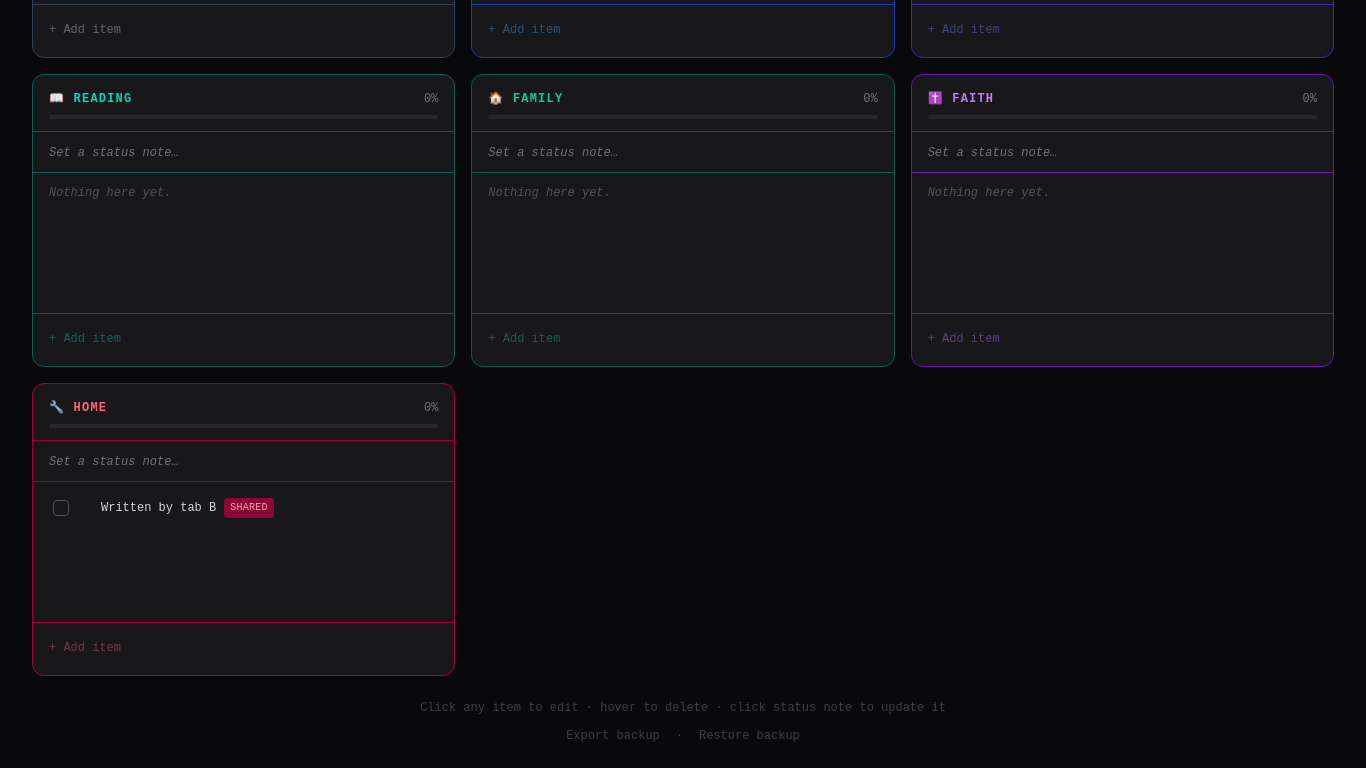
Test: multiple tabs (M1) › does not lose the other tab's work on the next edit
The width and height of the screenshot is (1366, 768).
(page scrolled)
Check: the text "Written by tab B" is shown, box [101,501,216,515]
Click the button "+ Add item" below "Home": point(85, 648) [49,640,121,656]
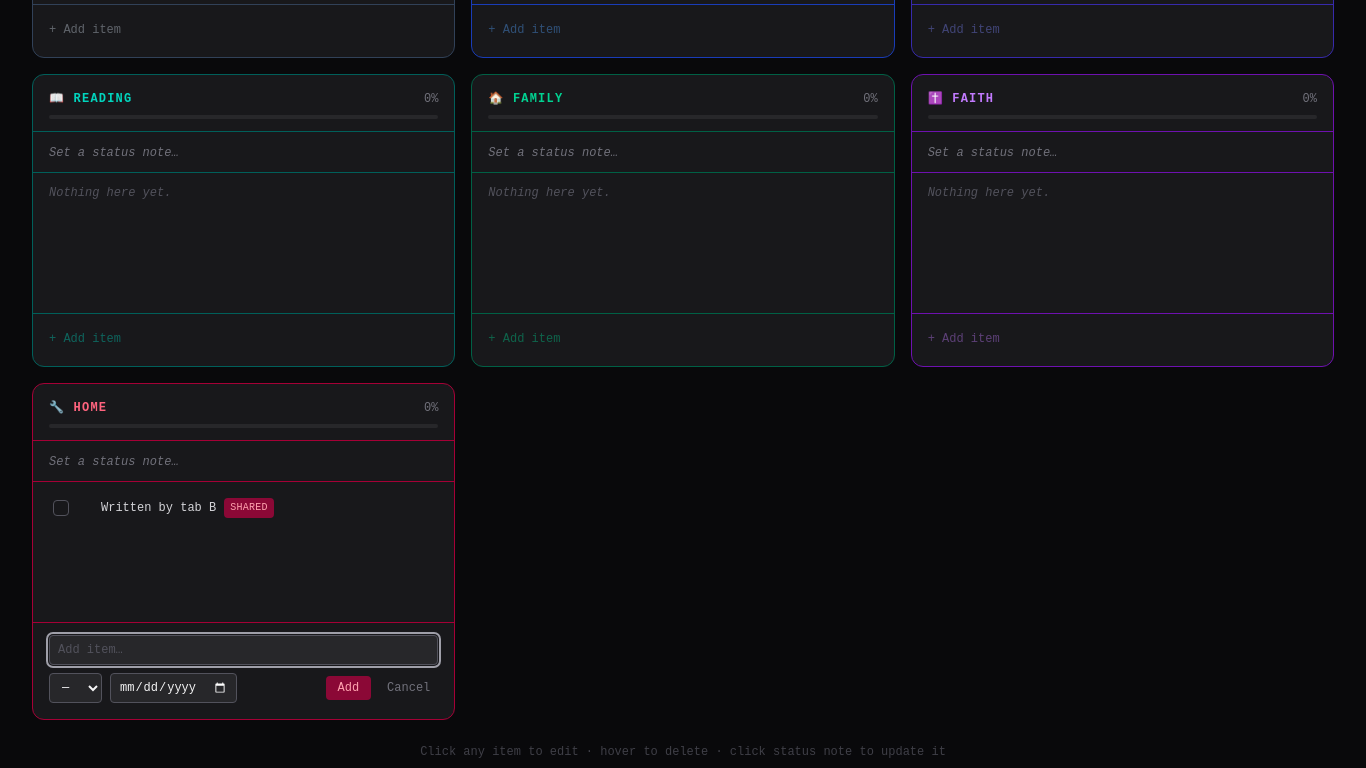
In the field named "new home task": point(244, 650) [49,635,438,665], type "Added after sync"
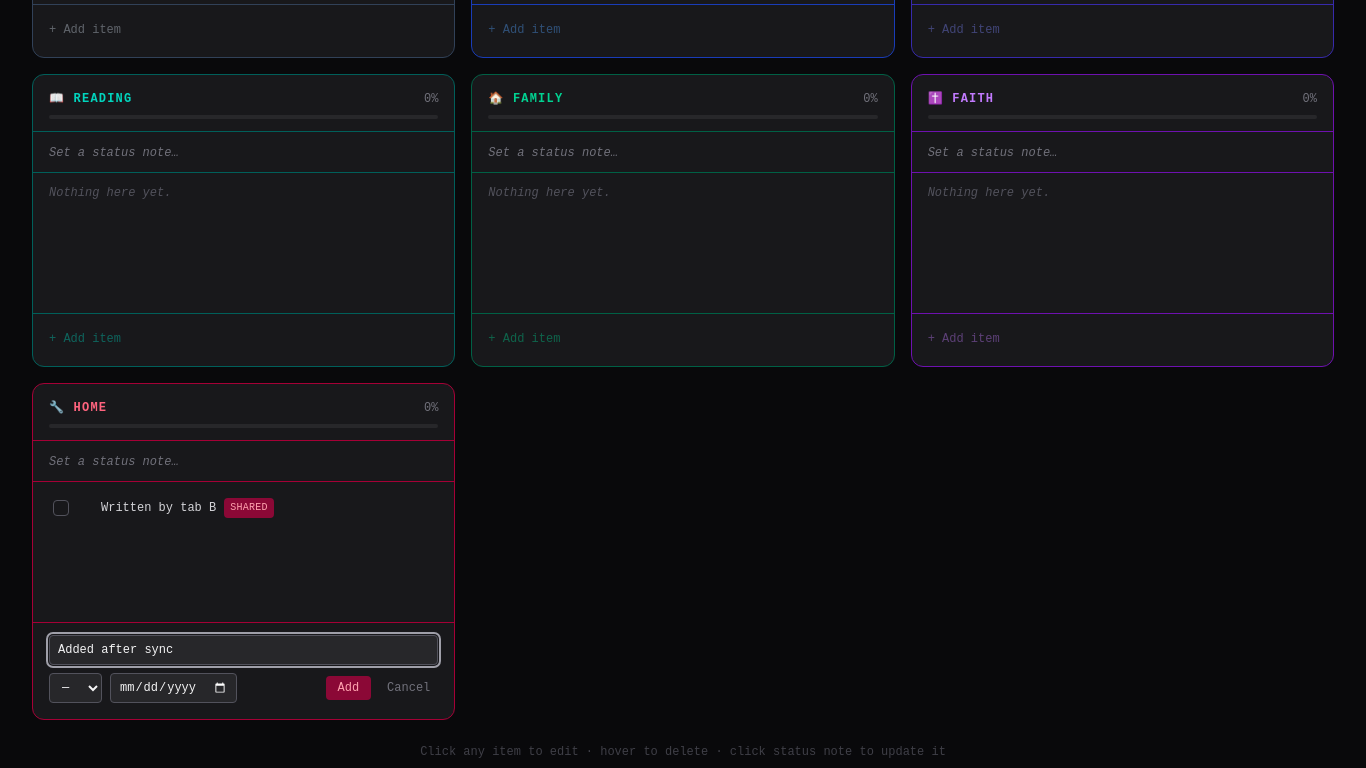
Click the button "Add": point(348, 688) [326,676,371,700]
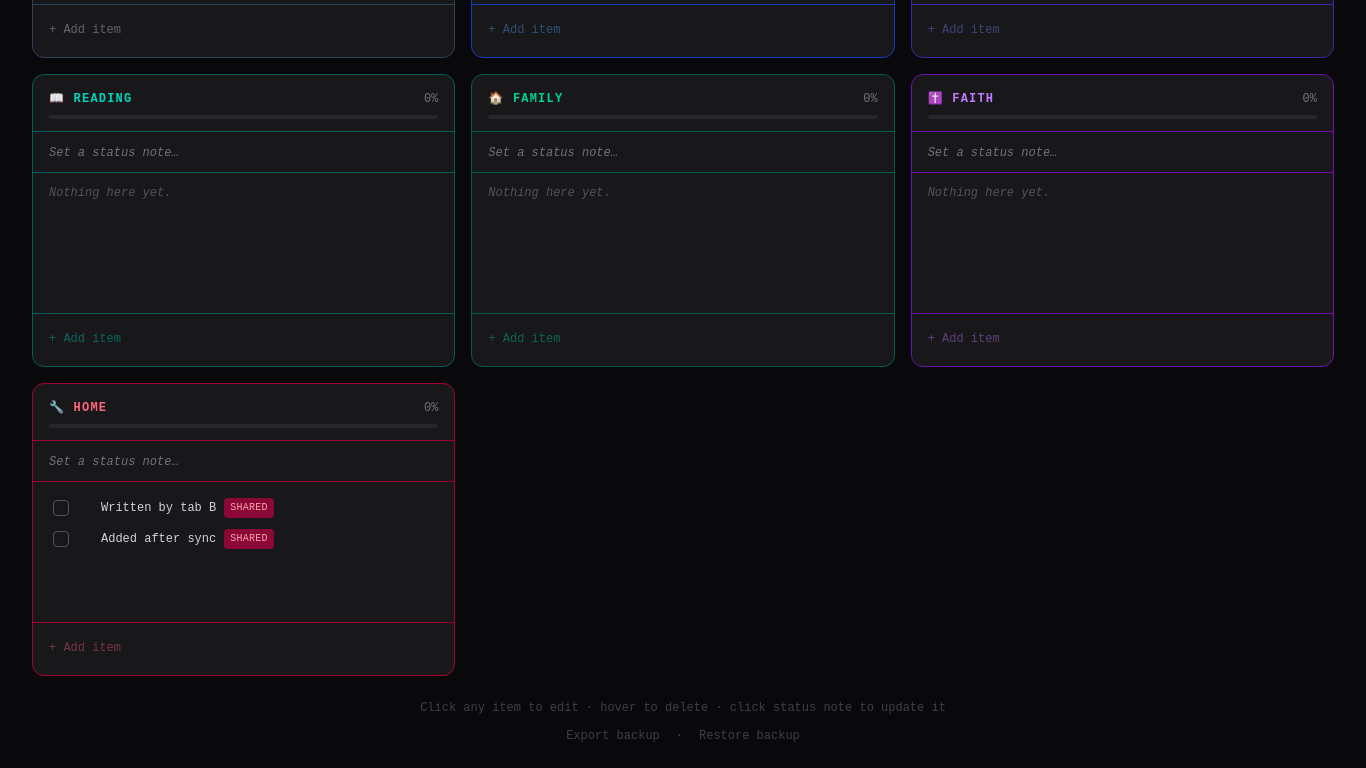
Check: the text "Written by tab B" is shown, box [101,501,216,515]
Check: the text "Added after sync" is shown, box [101,532,216,546]
